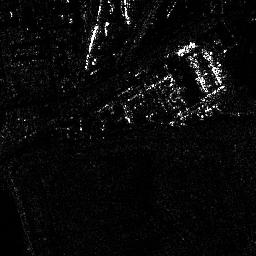ship: (174, 40, 199, 57)
